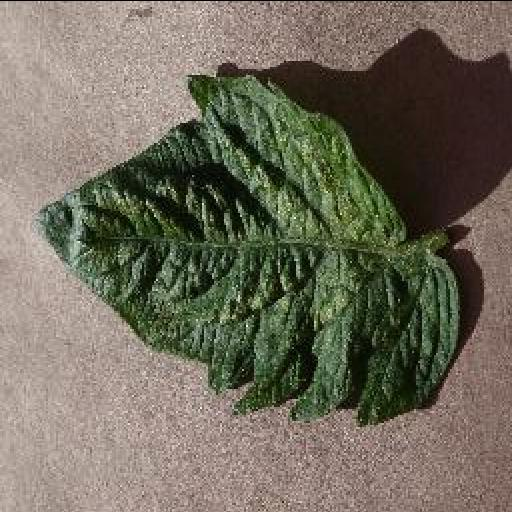disease_tomato: (34, 74, 460, 424)
